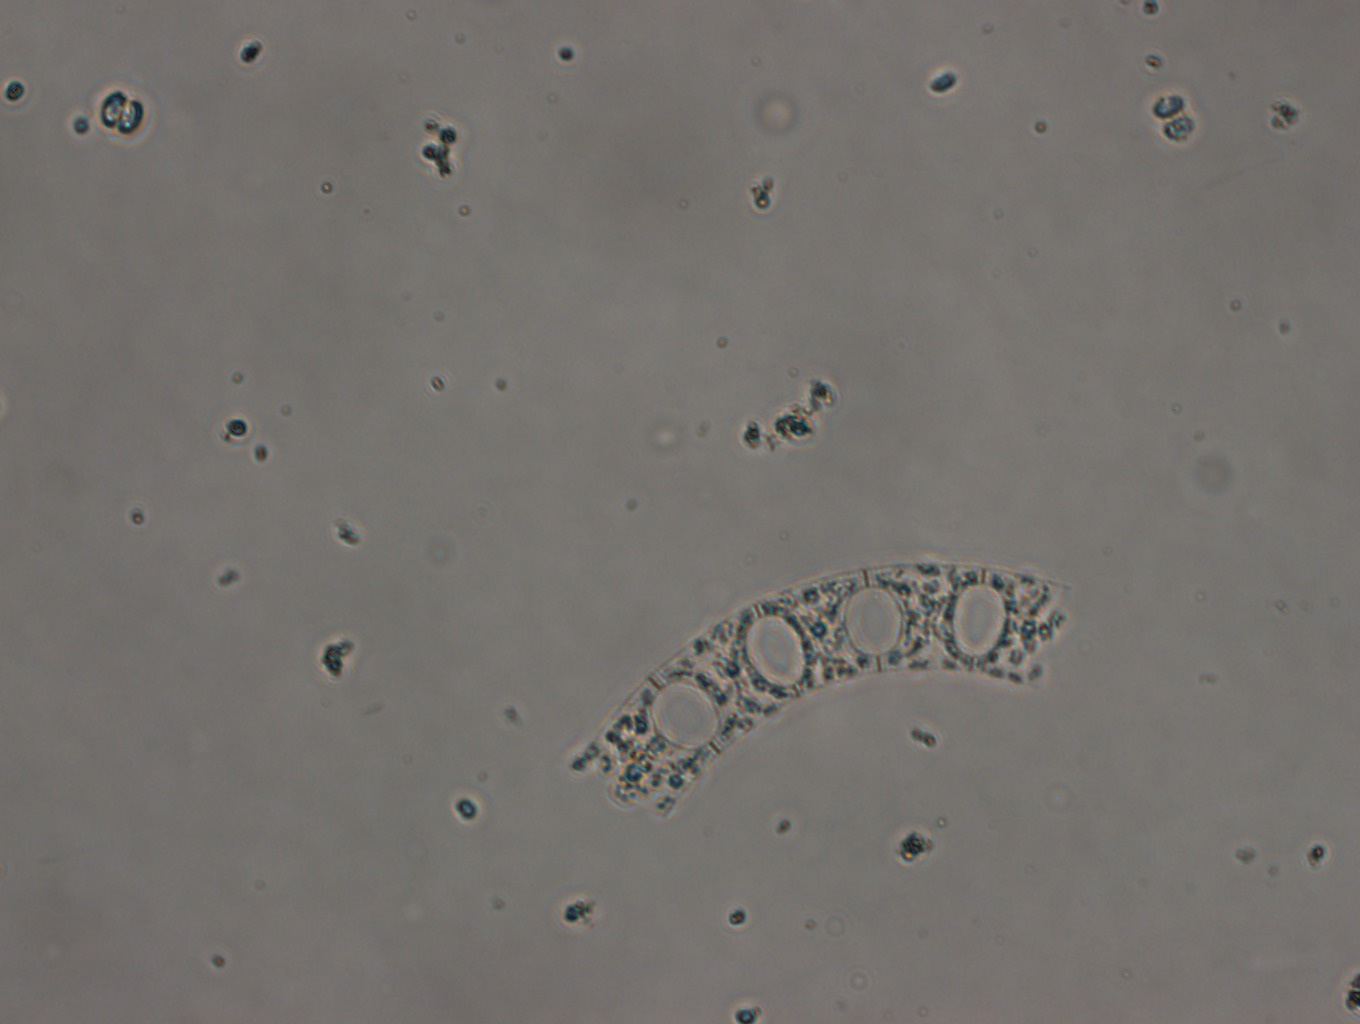eucampia: (569, 550, 1060, 815)
